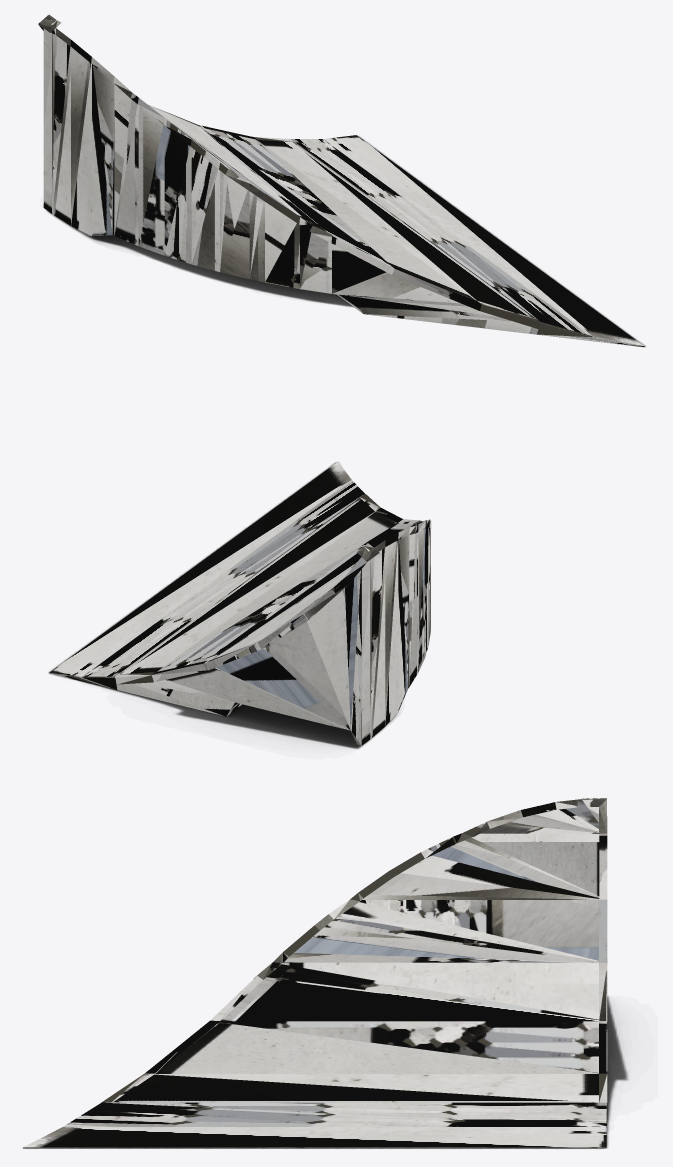
Rendered from cross-ramp-98r.gltf.
The picture shows the model from 3 angles, top to bottom: view 1: azimuth 30°, elevation 25°; view 2: azimuth 150°, elevation 25°; view 3: azimuth 270°, elevation 25°; orthographic projection.
Parts seen in each view (by area): view 1: SK1228_Cross-Ramp-_98R.001, Schatten; view 2: SK1228_Cross-Ramp-_98R.001, Schatten; view 3: SK1228_Cross-Ramp-_98R.001, Schatten.
Part boxes in pixels (x1,y1,x2,y2): SK1228_Cross-Ramp-_98R.001: (38,14,644,347); Schatten: (47,135,645,346); SK1228_Cross-Ramp-_98R.001: (49,462,431,745); Schatten: (48,462,394,748); SK1228_Cross-Ramp-_98R.001: (23,798,607,1148); Schatten: (23,996,628,1148).
Bounding box in the file's own units: 1.64 × 0.94 × 2.76.
Materials: 4 (4 with a texture image).
